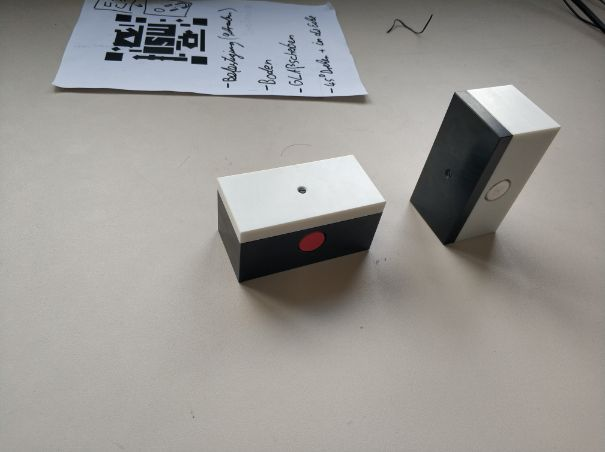black+white+silver: (408, 82, 565, 247)
white+black+red: (213, 153, 389, 286)
